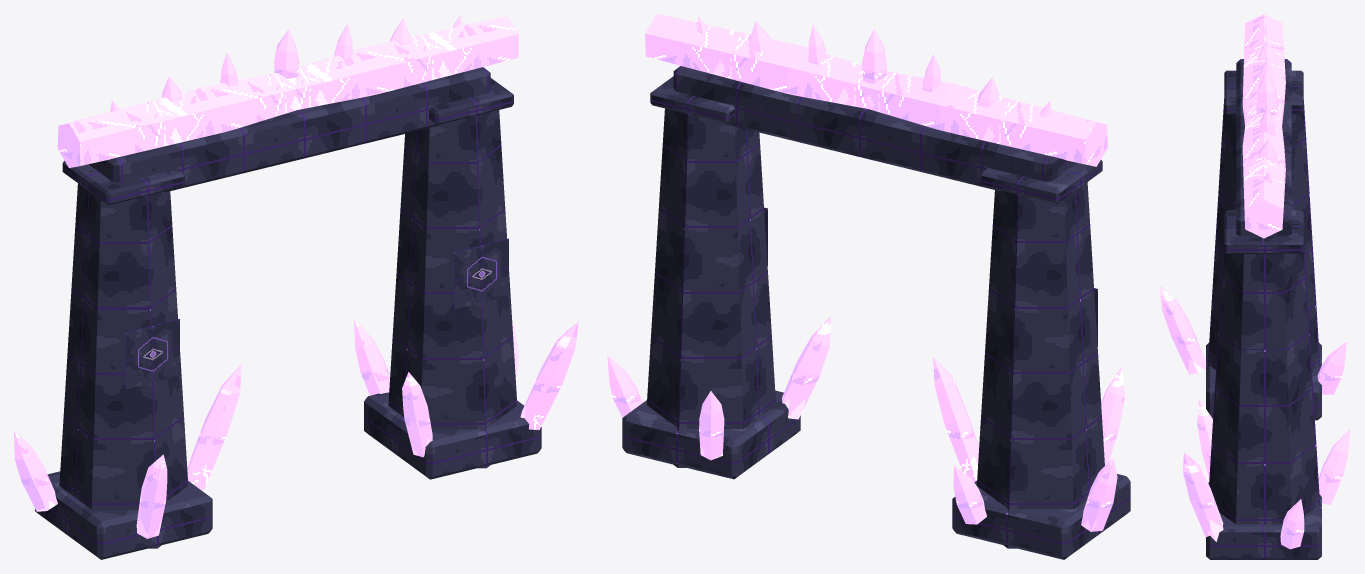
Rendered from psy_gate.glb.
3 views of the same model, side by side, from view 1: azimuth 30°, elevation 25°; view 2: azimuth 150°, elevation 25°; view 3: azimuth 270°, elevation 25° (orthographic). The views are drawn at different scales.
Visible parts, largest first — view 1: Post-1, Post1, Top, Beam, Foot1, Foot-1, Crystals, Crystals.001, Plane, Plane.001, Cap-1, Cap1; view 2: Post-1, Post1, Top, Beam, Foot1, Crystals, Foot-1, Crystals.001, Cap-1, Cap1; view 3: Post1, Top, Post-1, Crystals.001, Foot1, Beam, Crystals, Cap1, Cap-1, Foot-1.
Boxes of the visible parts, bbox=[...] form: Post-1: bbox=[59, 183, 188, 548]; Post1: bbox=[388, 110, 517, 468]; Top: bbox=[57, 14, 518, 167]; Beam: bbox=[89, 67, 490, 191]; Foot1: bbox=[364, 392, 541, 479]; Foot-1: bbox=[35, 471, 212, 559]; Crystals: bbox=[14, 364, 241, 538]; Crystals.001: bbox=[354, 319, 578, 457]; Plane: bbox=[125, 319, 179, 389]; Plane.001: bbox=[454, 238, 508, 308]; Cap-1: bbox=[62, 161, 184, 205]; Cap1: bbox=[429, 78, 513, 124]; Post-1: bbox=[977, 182, 1104, 548]; Post1: bbox=[646, 108, 775, 467]; Top: bbox=[645, 14, 1107, 166]; Beam: bbox=[673, 66, 1076, 190]; Foot1: bbox=[622, 390, 800, 479]; Crystals: bbox=[933, 356, 1124, 531]; Foot-1: bbox=[952, 474, 1130, 559]; Crystals.001: bbox=[607, 316, 830, 460]; Cap-1: bbox=[980, 160, 1102, 203]; Cap1: bbox=[650, 76, 735, 123]; Post1: bbox=[1209, 238, 1320, 524]; Top: bbox=[1242, 14, 1285, 238]; Post-1: bbox=[1207, 99, 1319, 369]; Crystals.001: bbox=[1183, 398, 1350, 549]; Foot1: bbox=[1206, 482, 1321, 559]; Beam: bbox=[1236, 59, 1291, 236]; Crystals: bbox=[1159, 285, 1346, 394]; Cap1: bbox=[1224, 210, 1303, 253]; Cap-1: bbox=[1224, 70, 1303, 114]; Foot-1: bbox=[1206, 342, 1321, 420].
Bounding box in the file's own units: 8.28 × 7.12 × 3.12.
3 materials, 3 textured.
